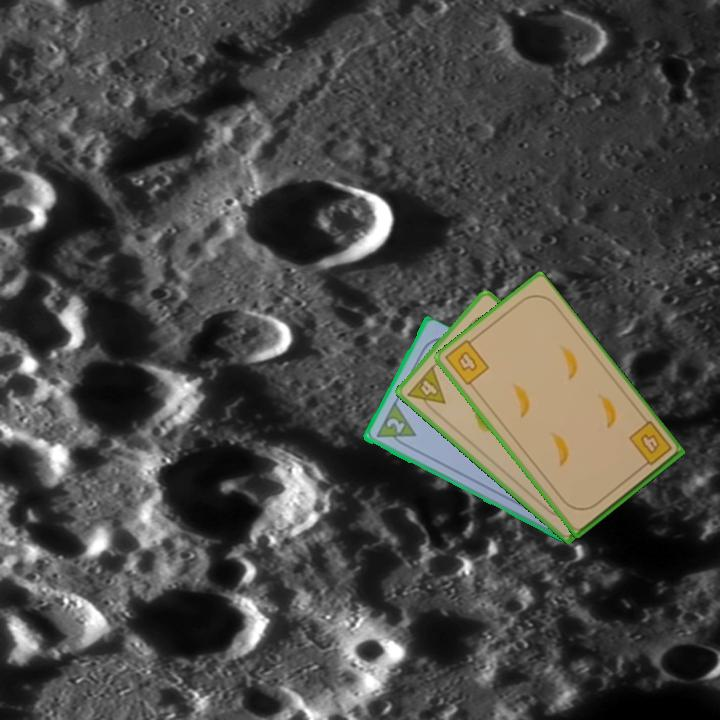2p: (372, 400, 418, 451)
4b: (442, 333, 492, 388), (625, 418, 675, 472)
4p: (404, 362, 448, 417)
